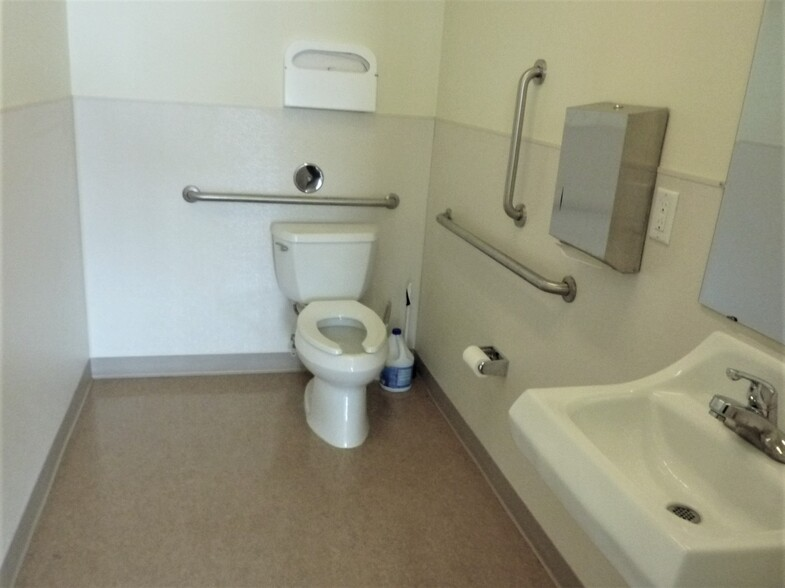dispenser: (549, 100, 669, 276), (461, 343, 511, 382)
faucet: (700, 367, 785, 466)
restroom_assist_bar: (436, 204, 577, 312), (502, 59, 548, 229), (181, 188, 401, 211)
sink: (510, 324, 785, 588)
toilet: (268, 221, 390, 451)
toilet_handle: (271, 240, 290, 254)
